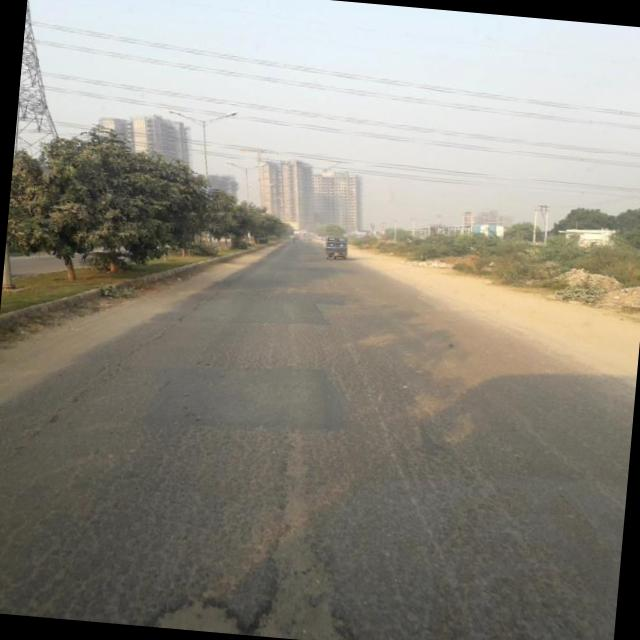crack: (0, 402, 623, 640), (325, 337, 505, 640), (200, 298, 344, 382)
pothole: (132, 580, 279, 636)
